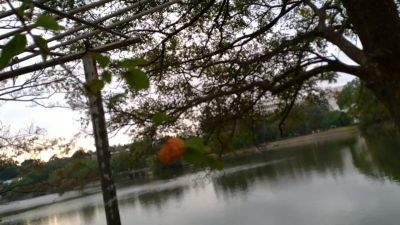eggs: (158, 135, 186, 166)
